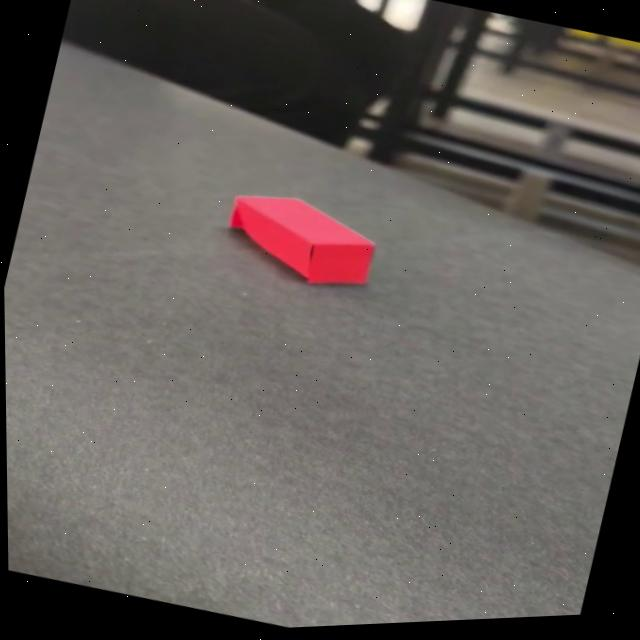red block: (217, 177, 386, 299)
